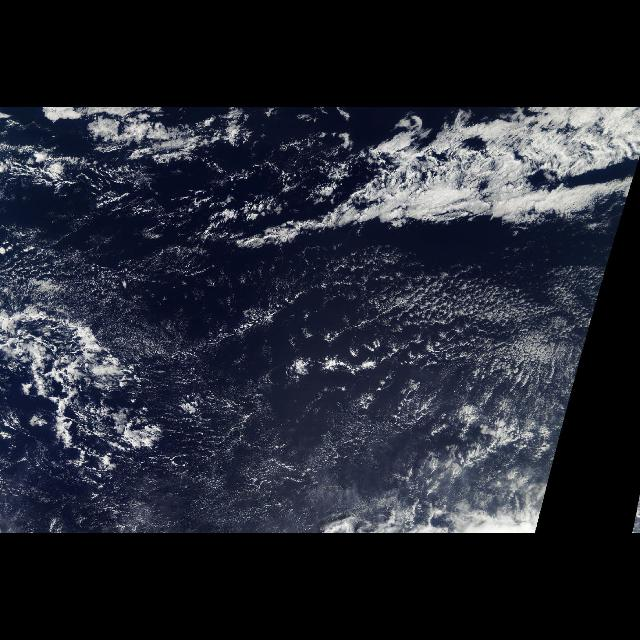Sugar: (123, 261, 592, 533)
